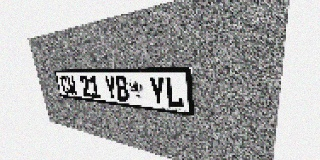1: (88, 76, 101, 98)
2: (79, 76, 92, 97)
B: (115, 76, 130, 102)
C: (60, 75, 70, 95)
L: (165, 77, 184, 109)
W: (66, 75, 77, 96)
Y: (148, 76, 166, 106), (104, 76, 118, 101)
